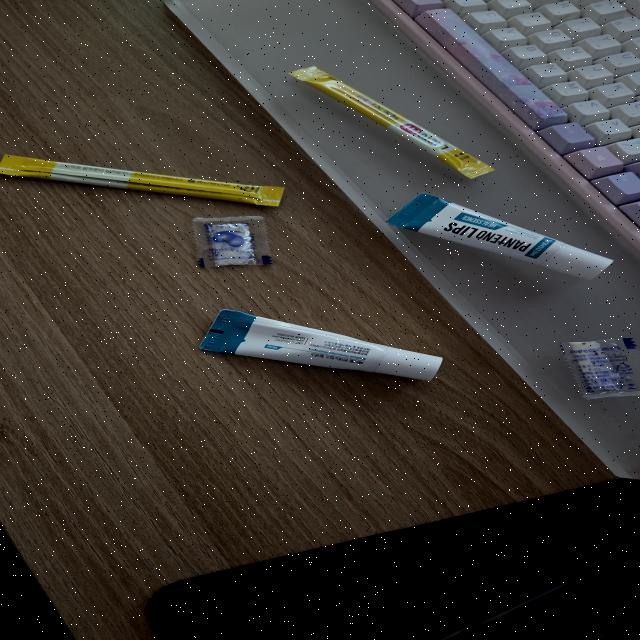lacto: (278, 55, 515, 186), (0, 148, 300, 213)
lip: (381, 186, 639, 304), (183, 301, 465, 390)
salt: (546, 329, 640, 406), (185, 208, 278, 266)
